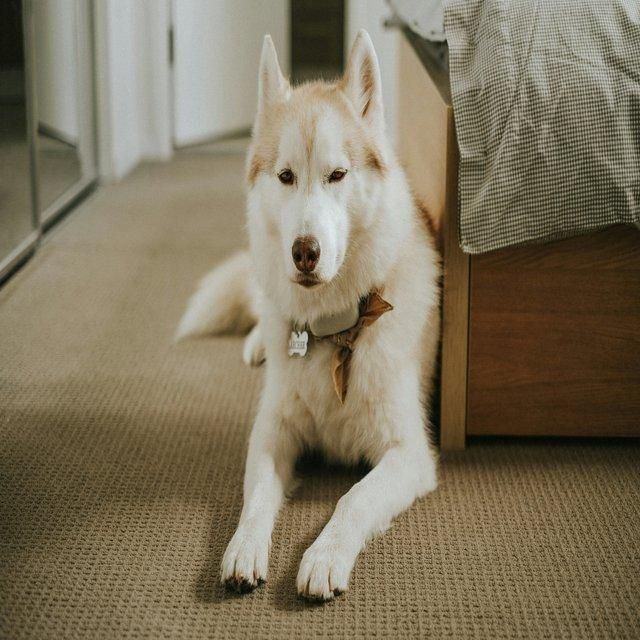husky: (173, 27, 443, 601)
